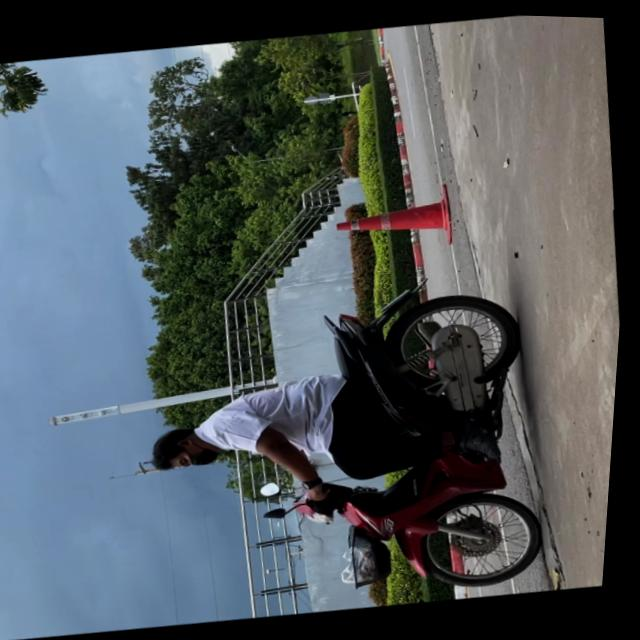seatbelt: (152, 418, 231, 473)
